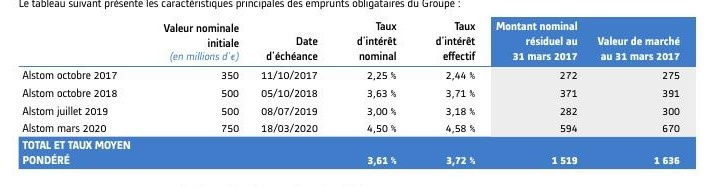table: (0, 0, 714, 187)
